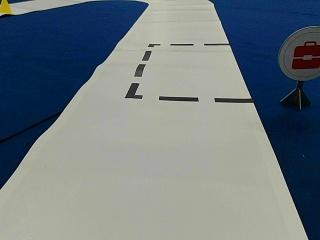company: (279, 26, 319, 80)
